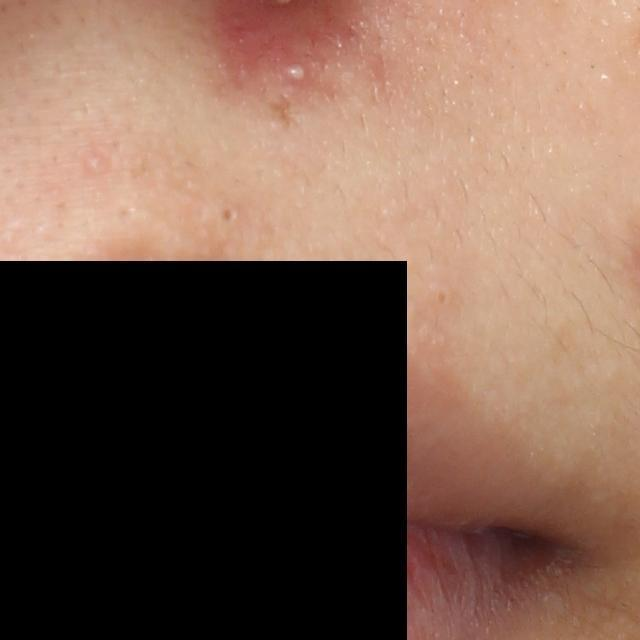comedo: (425, 282, 460, 314), (217, 204, 245, 228), (83, 153, 105, 176)
pustule: (280, 59, 312, 85)
